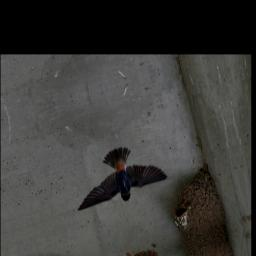Swallow: (65, 134, 171, 219)
